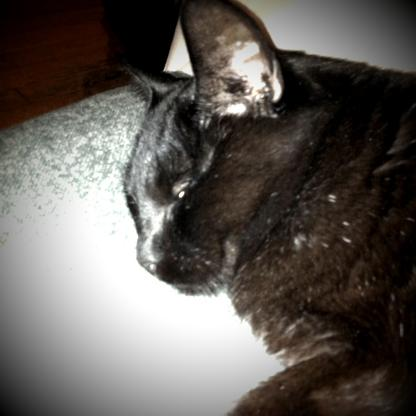Cat: (119, 0, 415, 415)
